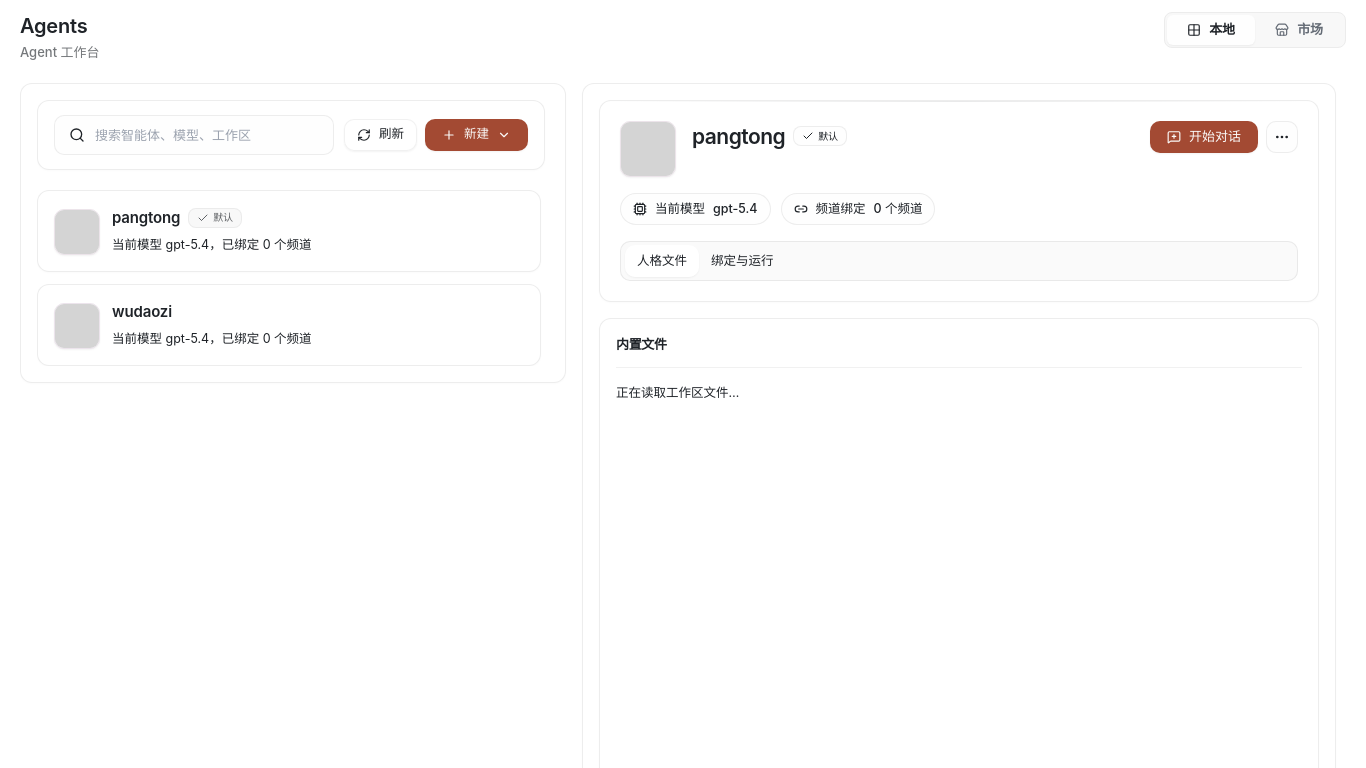
Test: agents workbench layout › keeps the current detail tab when switching between local agent cards
This screenshot has width=1366, height=768.
Click the button "人格文件": (662, 261) x1=625 y1=245 x2=699 y2=277
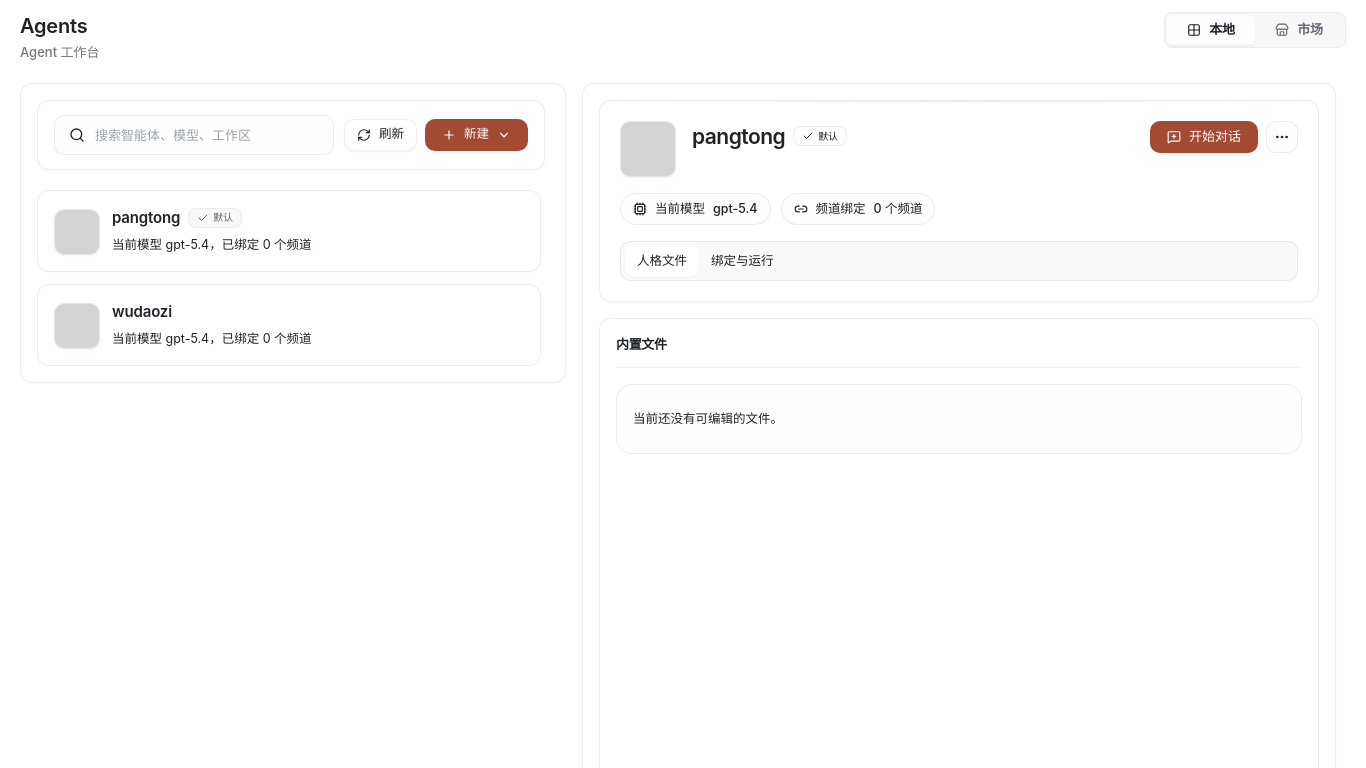
Expected: the text "当前还没有可编辑的文件。" has class "app-empty-surface", x1=616 y1=384 x2=1302 y2=454
Click the button "wudaozi 当前模型 gpt-5.4，已绑定 0 个频道": (77, 326) x1=37 y1=284 x2=541 y2=366
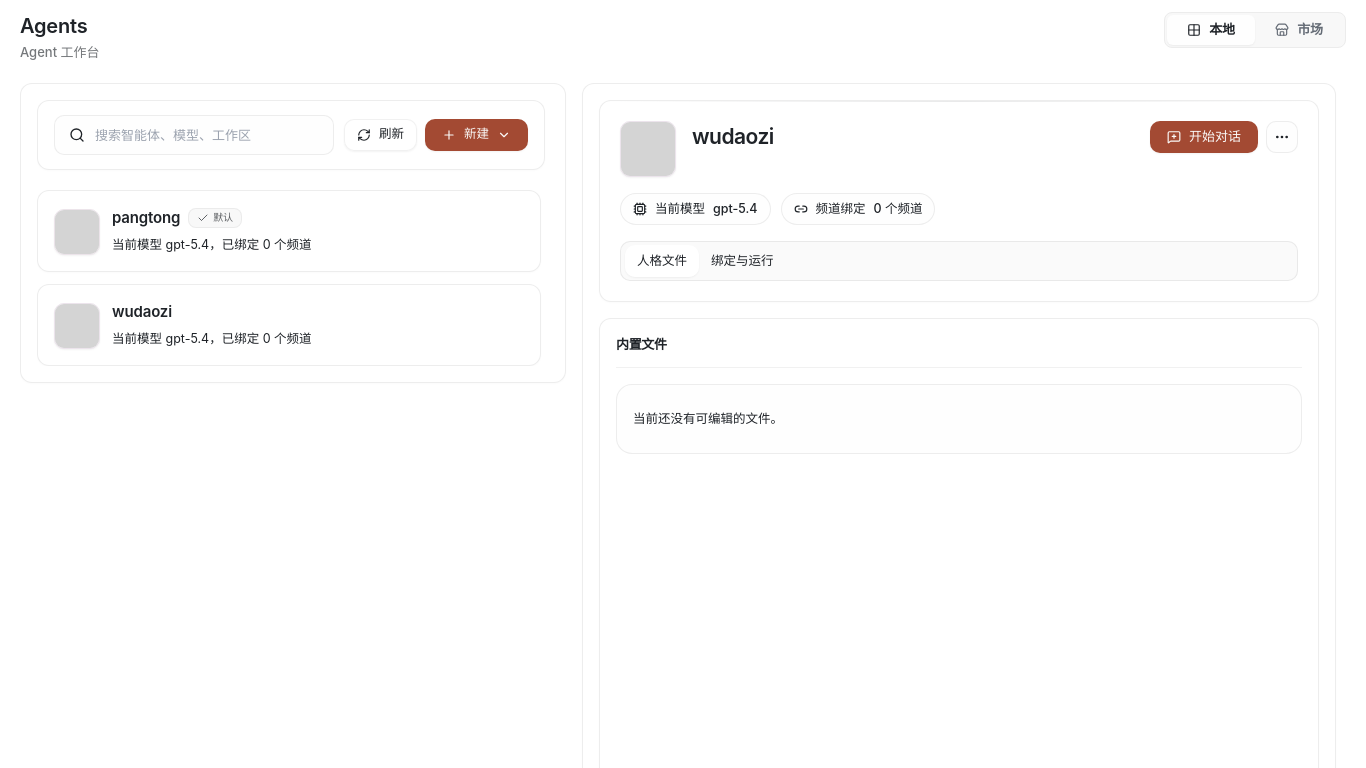
Expected: the 1st heading "wudaozi" is shown, x1=692 y1=120 x2=774 y2=152
